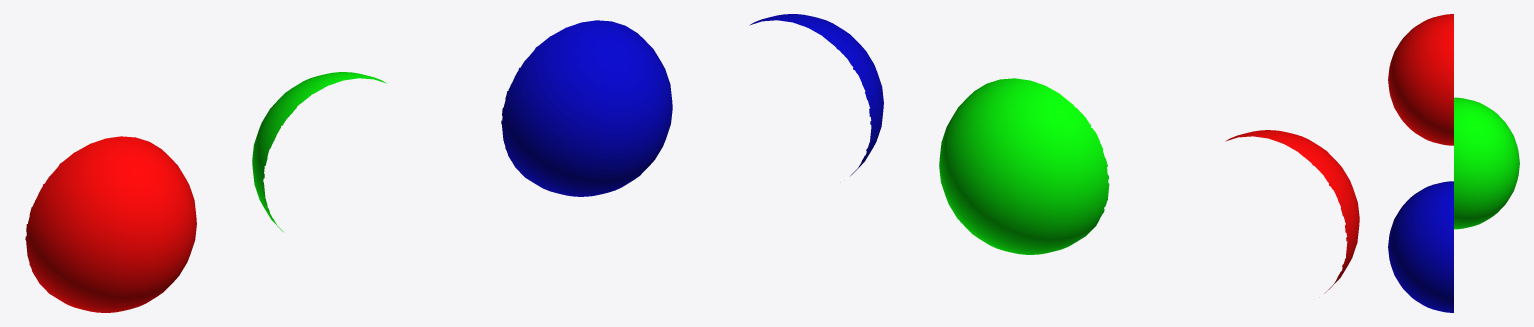
File: Mask.gltf
The picture shows the model from 3 angles, left to right: view 1: azimuth 30°, elevation 25°; view 2: azimuth 150°, elevation 25°; view 3: azimuth 270°, elevation 25°; orthographic projection. The views are drawn at different scales.
Visible parts, largest first — view 1: StandardMesh, StandardSurfaceMesh, PhysicalMesh; view 2: PhysicalMesh, StandardSurfaceMesh, StandardMesh; view 3: StandardMesh, StandardSurfaceMesh, PhysicalMesh.
Part boxes in pixels (x1,y1,x2,y2): StandardMesh: (25, 136, 196, 312); StandardSurfaceMesh: (501, 20, 672, 196); PhysicalMesh: (252, 72, 386, 232); PhysicalMesh: (939, 78, 1109, 254); StandardSurfaceMesh: (749, 14, 883, 175); StandardMesh: (1225, 130, 1359, 293); StandardMesh: (1388, 14, 1453, 145); StandardSurfaceMesh: (1388, 181, 1453, 312); PhysicalMesh: (1454, 97, 1519, 229).
Size of the model in its own units: 8 by 2 by 2.
3 materials, 3 textured.
